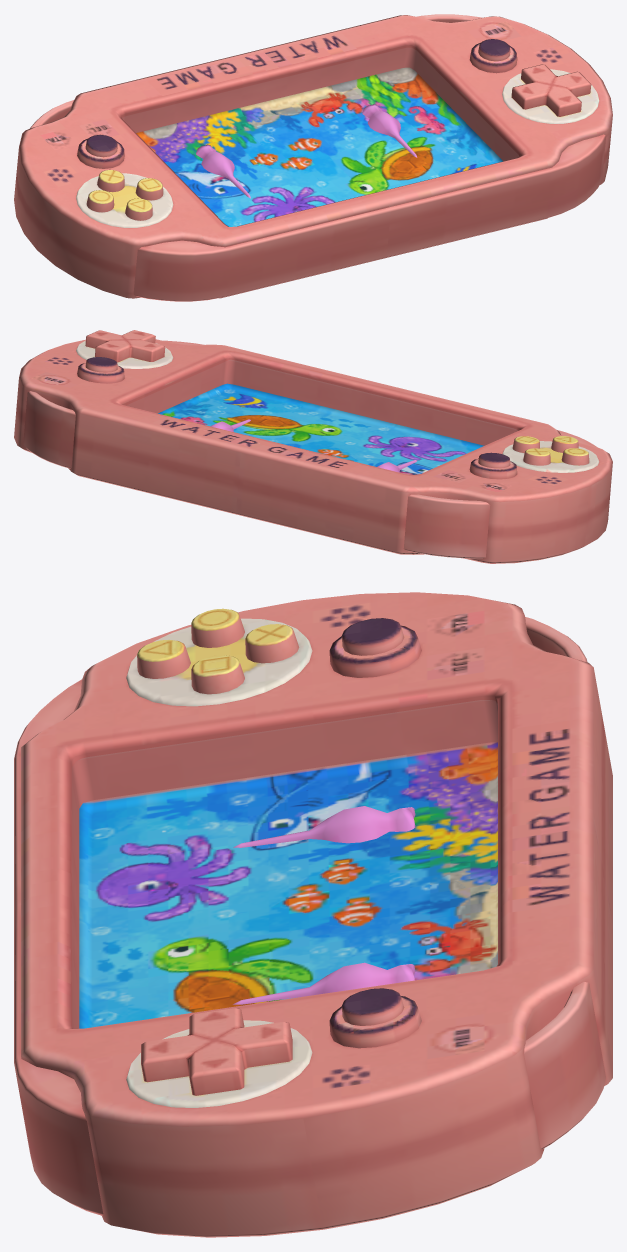
The model's file is GTWaterGame.obj.
The picture shows the model from 3 angles, top to bottom: view 1: azimuth 30°, elevation 25°; view 2: azimuth 150°, elevation 25°; view 3: azimuth 270°, elevation 25°; orthographic projection. The views are drawn at different scales.
Parts seen in each view (by area): view 1: shuizhongtaoquan; view 2: shuizhongtaoquan; view 3: shuizhongtaoquan.
Boxes of the visible parts, x1,y1,x2,y2 form: shuizhongtaoquan: (14, 14, 612, 301); shuizhongtaoquan: (14, 330, 612, 563); shuizhongtaoquan: (14, 592, 612, 1237).
Bounding box in the file's own units: 3.2 × 0.5921 × 1.57.
